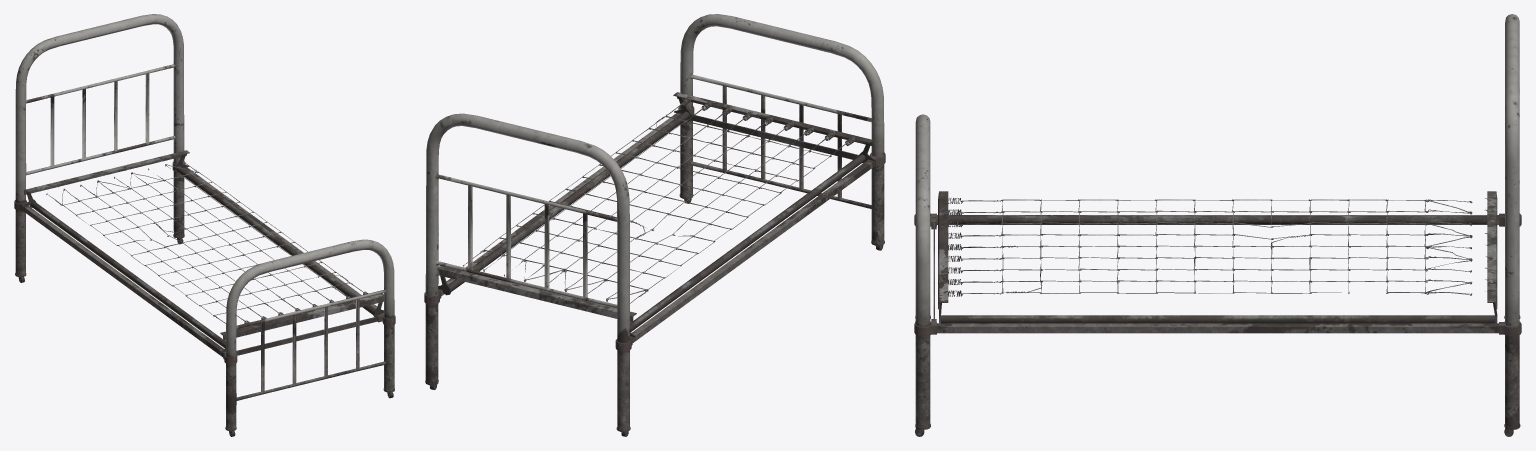
File: old_bed_frame.glb
3 views of the same model, side by side, from view 1: azimuth 30°, elevation 25°; view 2: azimuth 150°, elevation 25°; view 3: azimuth 270°, elevation 25° (orthographic). The views are drawn at different scales.
Visible parts, largest first — view 1: old_bed_frame; view 2: old_bed_frame; view 3: old_bed_frame.
Part boxes in pixels (x1,y1,x2,y2): old_bed_frame: (14,14,395,436); old_bed_frame: (424,14,885,436); old_bed_frame: (914,14,1521,436).
Bounding box in the file's own units: 0.9047 × 1.2 × 2.
Materials: 1 (1 with a texture image).
